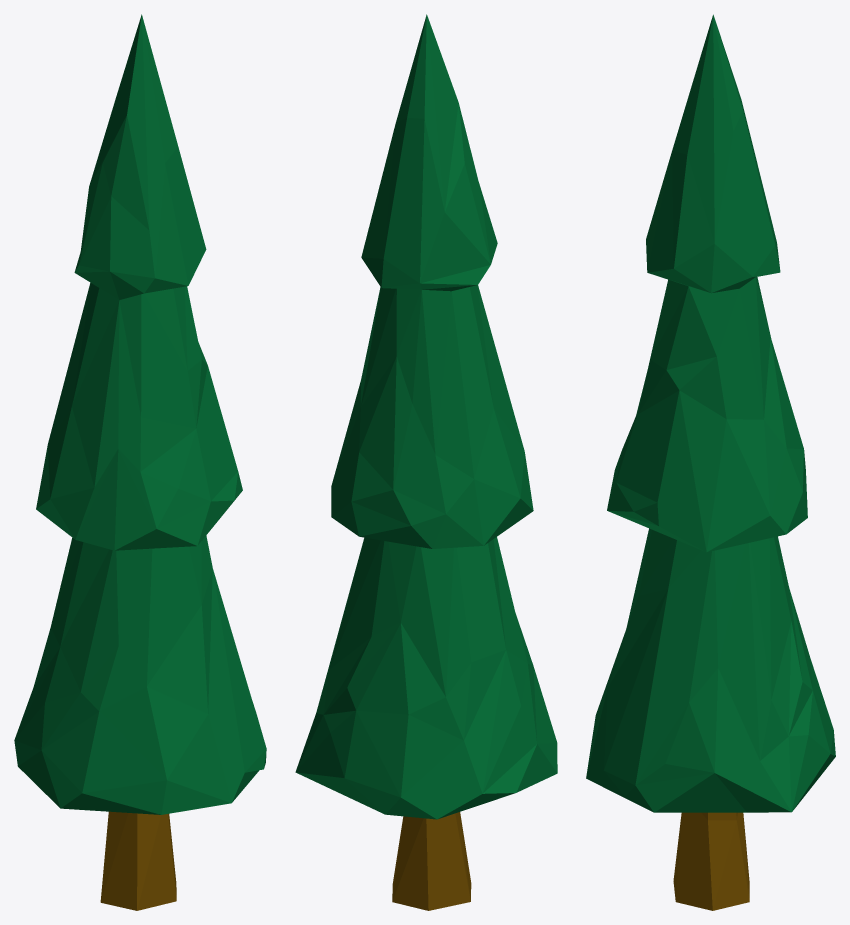
Rendered from Pine3.fbx.
3 renders of one model, left to right at view 1: azimuth 30°, elevation 25°; view 2: azimuth 150°, elevation 25°; view 3: azimuth 270°, elevation 25°, orthographic.
Parts seen in each view (by area): view 1: pasted__pasted__pCylinder2, pasted__pasted__pCylinder3; view 2: pasted__pasted__pCylinder2, pasted__pasted__pCylinder3; view 3: pasted__pasted__pCylinder2, pasted__pasted__pCylinder3.
Boxes of the visible parts, bbox=[...] form: pasted__pasted__pCylinder2: bbox=[14, 14, 266, 814]; pasted__pasted__pCylinder3: bbox=[100, 811, 176, 910]; pasted__pasted__pCylinder2: bbox=[295, 14, 557, 819]; pasted__pasted__pCylinder3: bbox=[392, 812, 471, 910]; pasted__pasted__pCylinder2: bbox=[586, 14, 835, 812]; pasted__pasted__pCylinder3: bbox=[673, 812, 749, 910].
Bounding box in the file's own units: 2.26 × 9.04 × 2.33.
